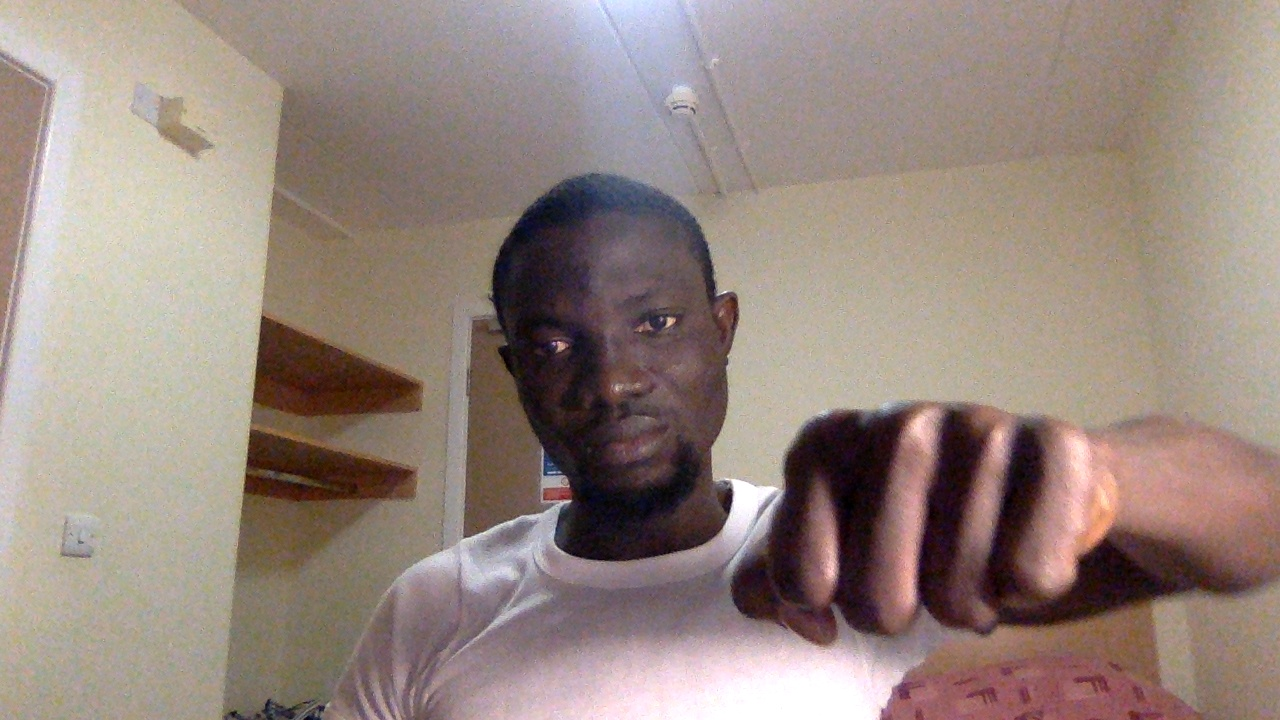Yes: (729, 393, 1128, 656)
